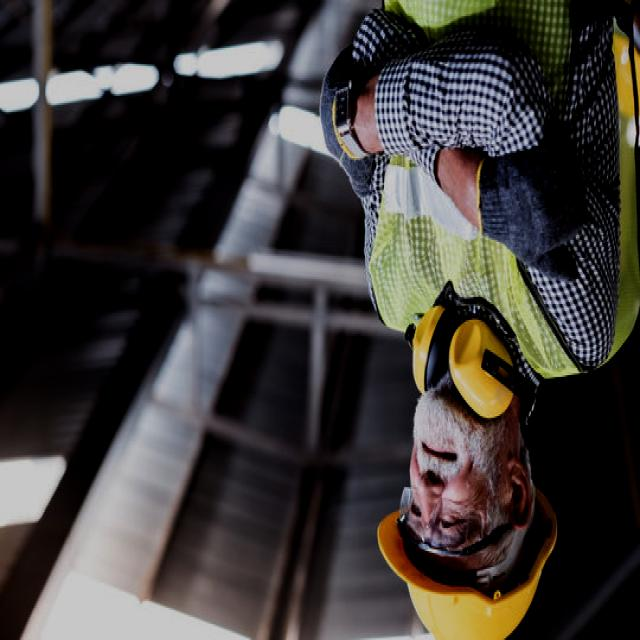Ear Muffs: (394, 309, 540, 429)
Hard Hat: (368, 498, 564, 640)
Reflective Vest: (365, 0, 639, 386)
